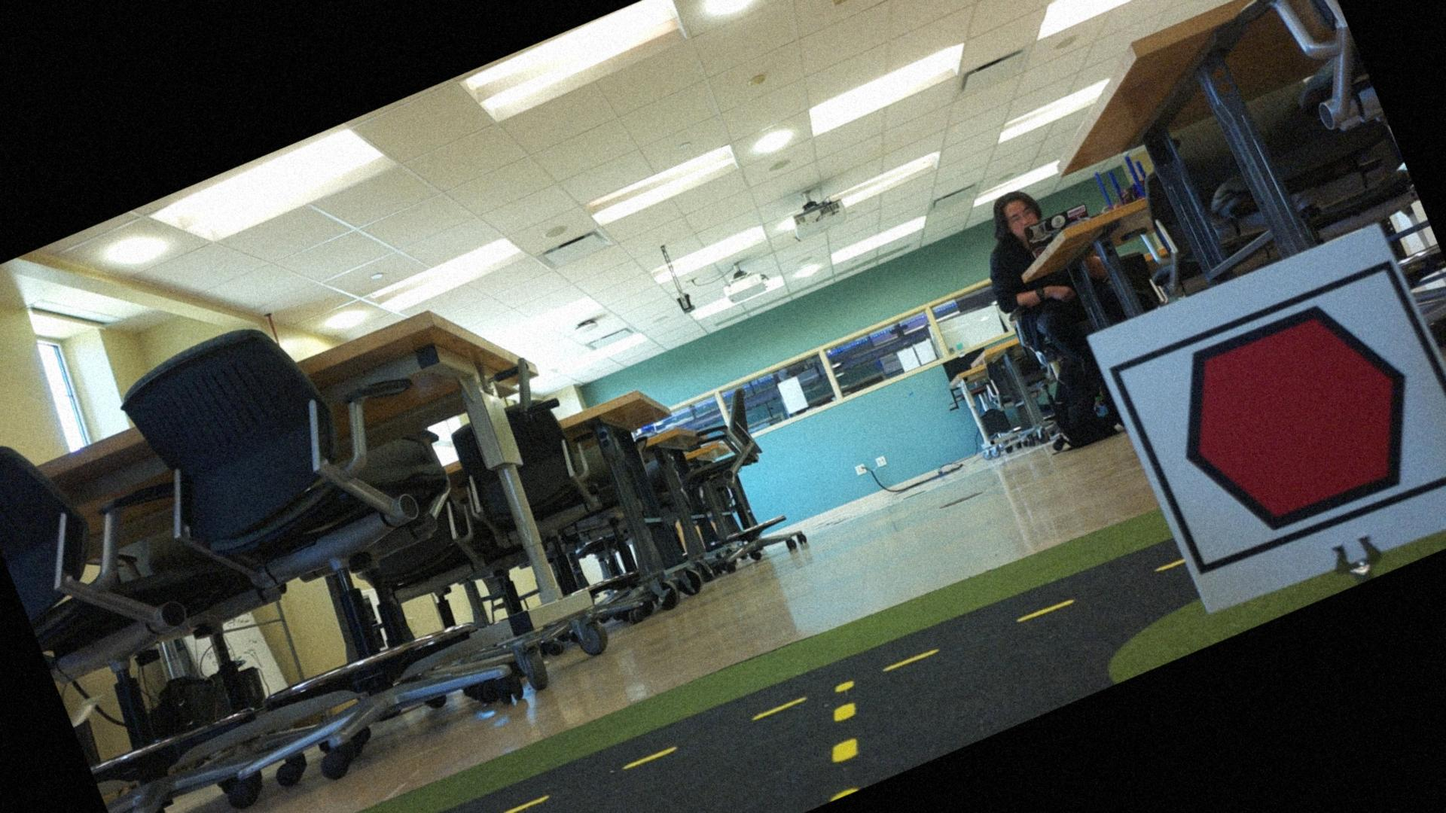stop: (1127, 266, 1445, 571)
yellowline: (808, 678, 880, 771)
